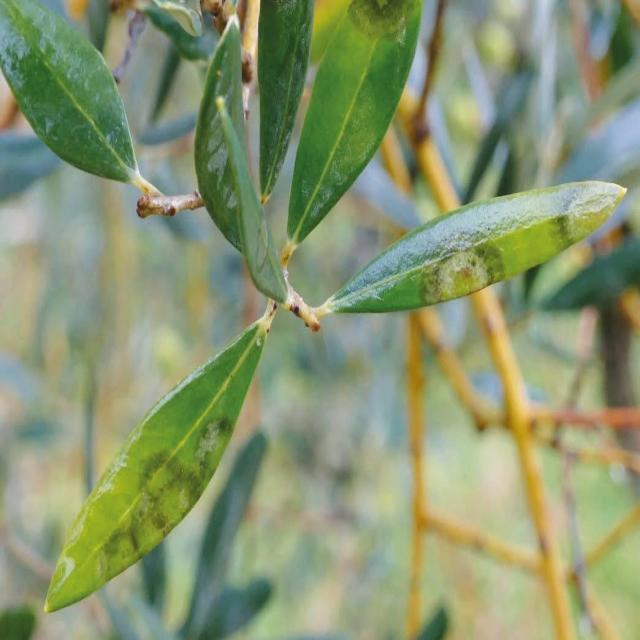Peacock Eye: (45, 301, 278, 611), (316, 181, 626, 319), (288, 0, 422, 241)
